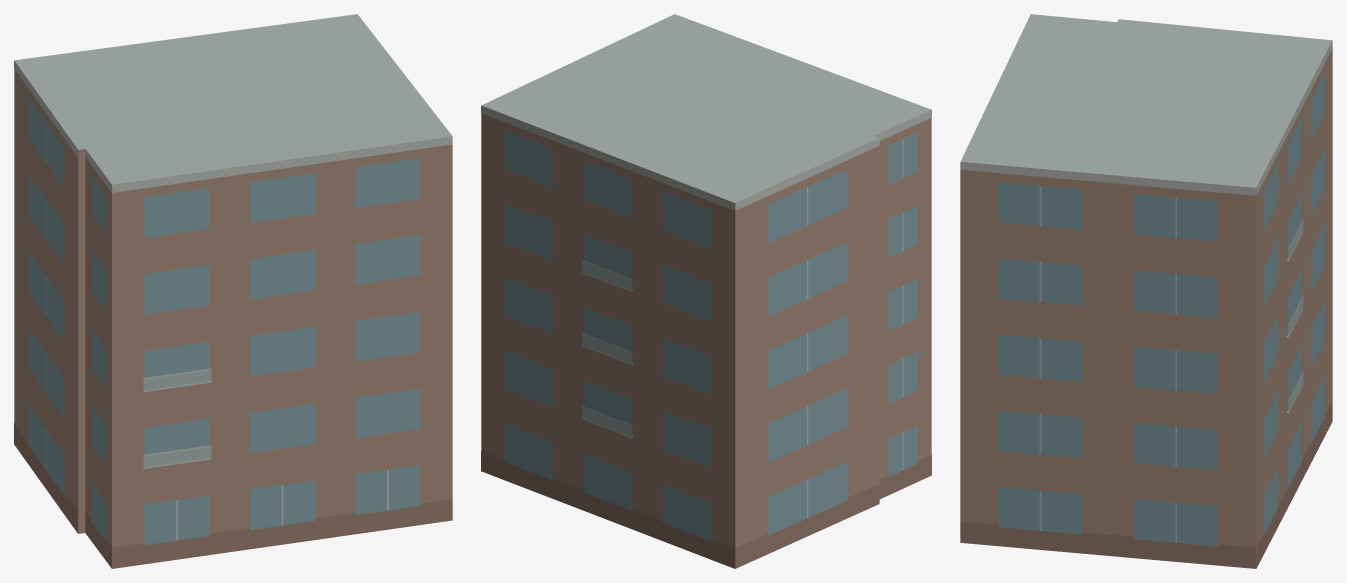
File: survey-upis-32921837.glb
3 views of the same model, side by side, from view 1: azimuth 30°, elevation 25°; view 2: azimuth 150°, elevation 25°; view 3: azimuth 270°, elevation 25° (orthographic). The views are drawn at different scales.
Visible parts, largest first — view 1: survey-upis-32921837.tmp; view 2: survey-upis-32921837.tmp; view 3: survey-upis-32921837.tmp.
Part boxes in pixels (x1,y1,x2,y2): survey-upis-32921837.tmp: [14, 14, 452, 568]; survey-upis-32921837.tmp: [481, 14, 931, 568]; survey-upis-32921837.tmp: [960, 14, 1332, 568].
Bounding box in the file's own units: 11.37 × 11.6 × 10.28.
